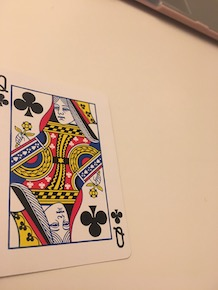QueenOfClubs: (1, 67, 137, 278)
